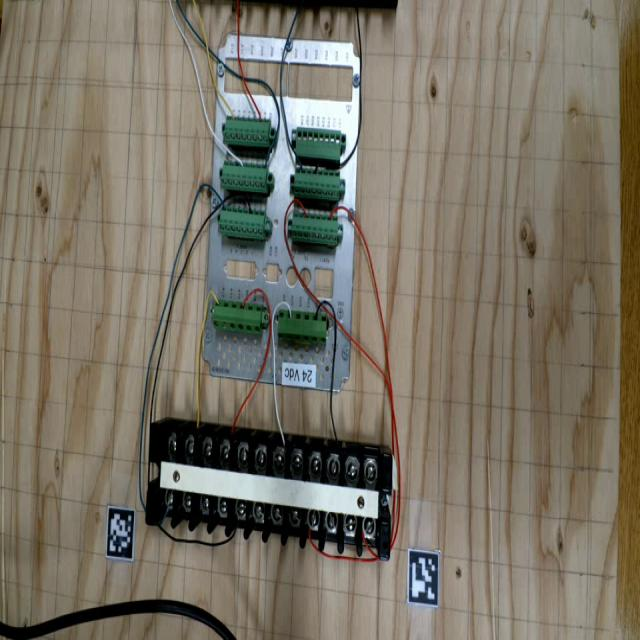Flathead_Block: (136, 418, 405, 560)
Terminal_1: (212, 299, 265, 335), (276, 309, 328, 344)
Terminal_2: (218, 204, 268, 240), (291, 211, 340, 245), (293, 167, 342, 200), (221, 161, 269, 192), (223, 116, 270, 147)
